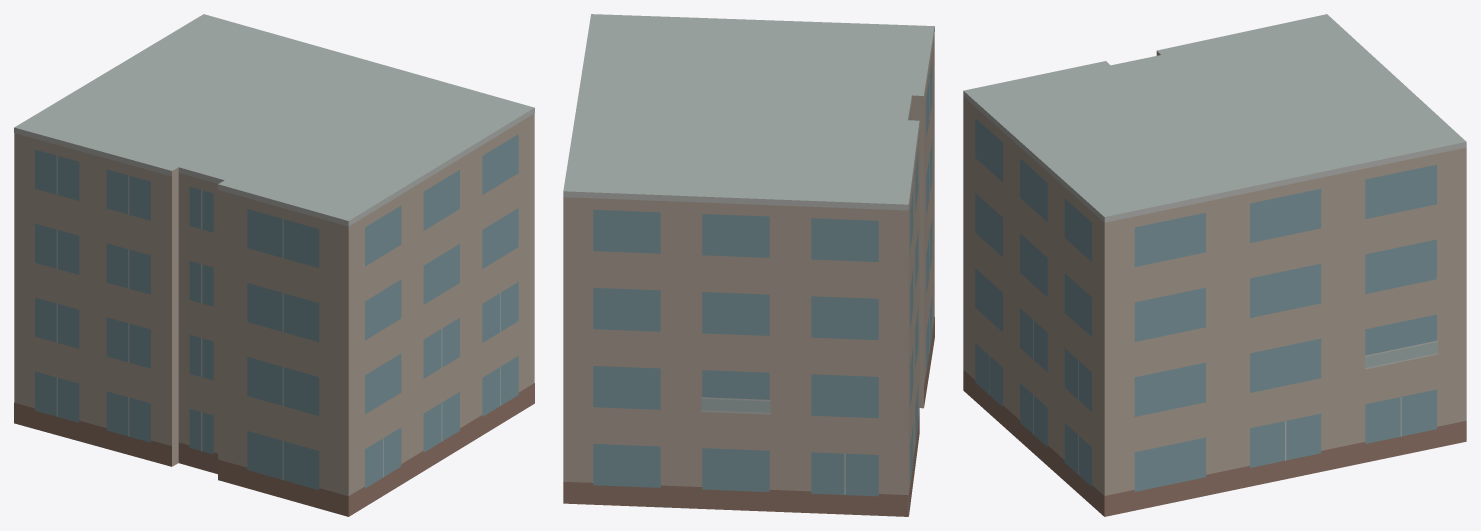
File: survey-upis-33035901.glb
3 renders of one model, left to right at view 1: azimuth 30°, elevation 25°; view 2: azimuth 150°, elevation 25°; view 3: azimuth 270°, elevation 25°, orthographic. The views are drawn at different scales.
Parts seen in each view (by area): view 1: survey-upis-33035901.tmp; view 2: survey-upis-33035901.tmp; view 3: survey-upis-33035901.tmp.
Part boxes in pixels (x1,y1,x2,y2): survey-upis-33035901.tmp: (14, 14, 534, 516); survey-upis-33035901.tmp: (563, 14, 934, 516); survey-upis-33035901.tmp: (963, 14, 1466, 516).
Size of the model in its own units: 18.97 by 13.05 by 19.87.
